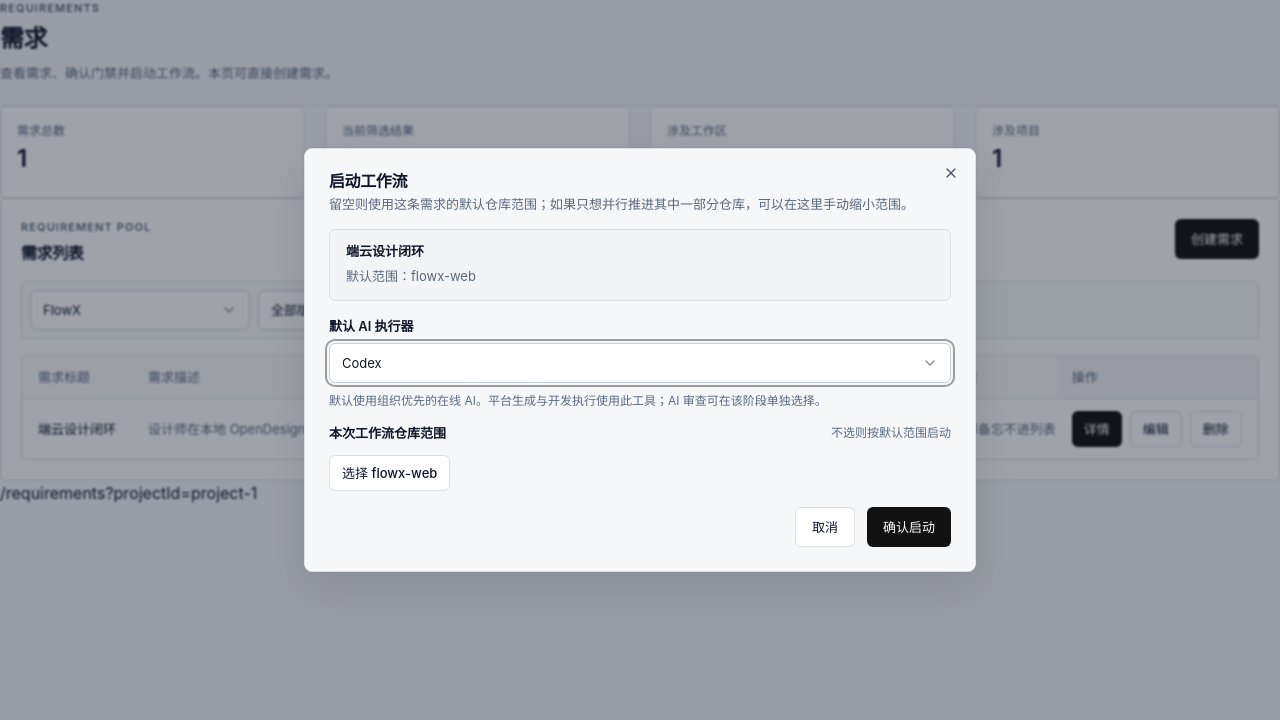
Test: RequirementsPage › 消费详情启动链接并保留 projectId，取消或刷新后不重复弹出
Expected: the dialog shows "启动工作流", [329,171,407,191]
Expected: the text "/requirements?projectId=project-1" is shown, [0,483,257,503]
Step 1. Click the button "取消" → (825, 527), box [795,507,855,547]
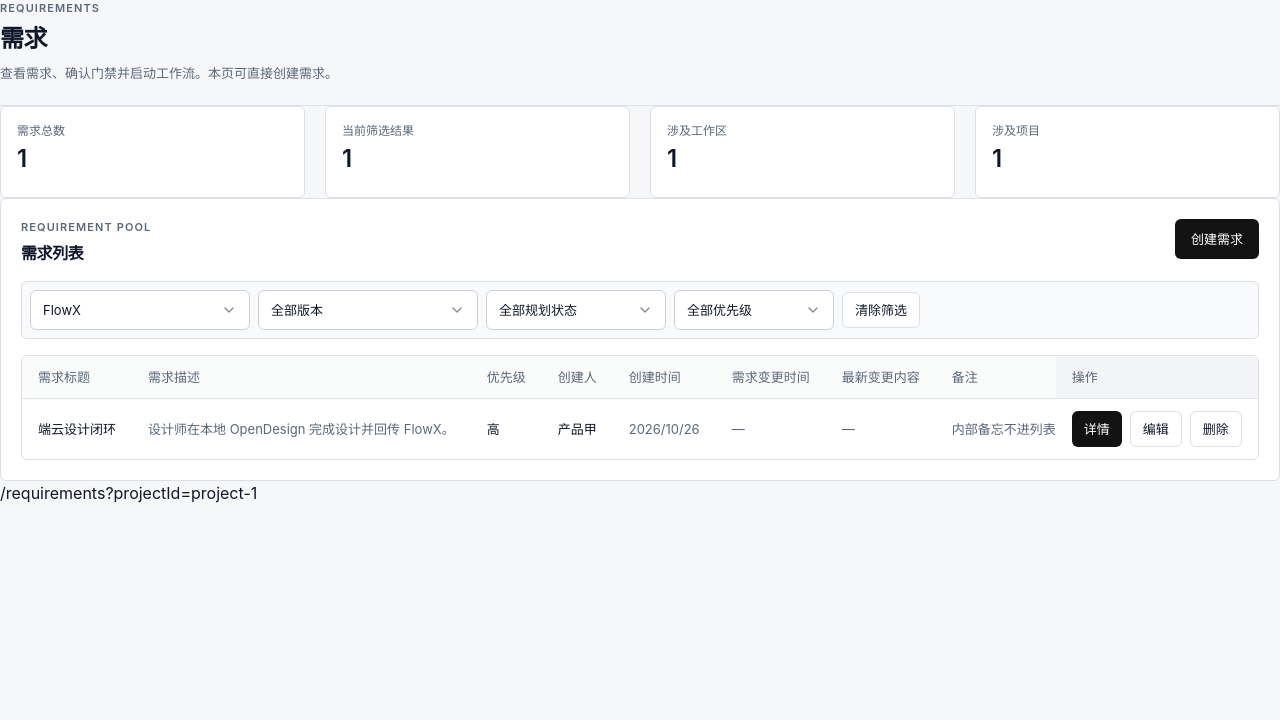
Expected: the dialog is gone
